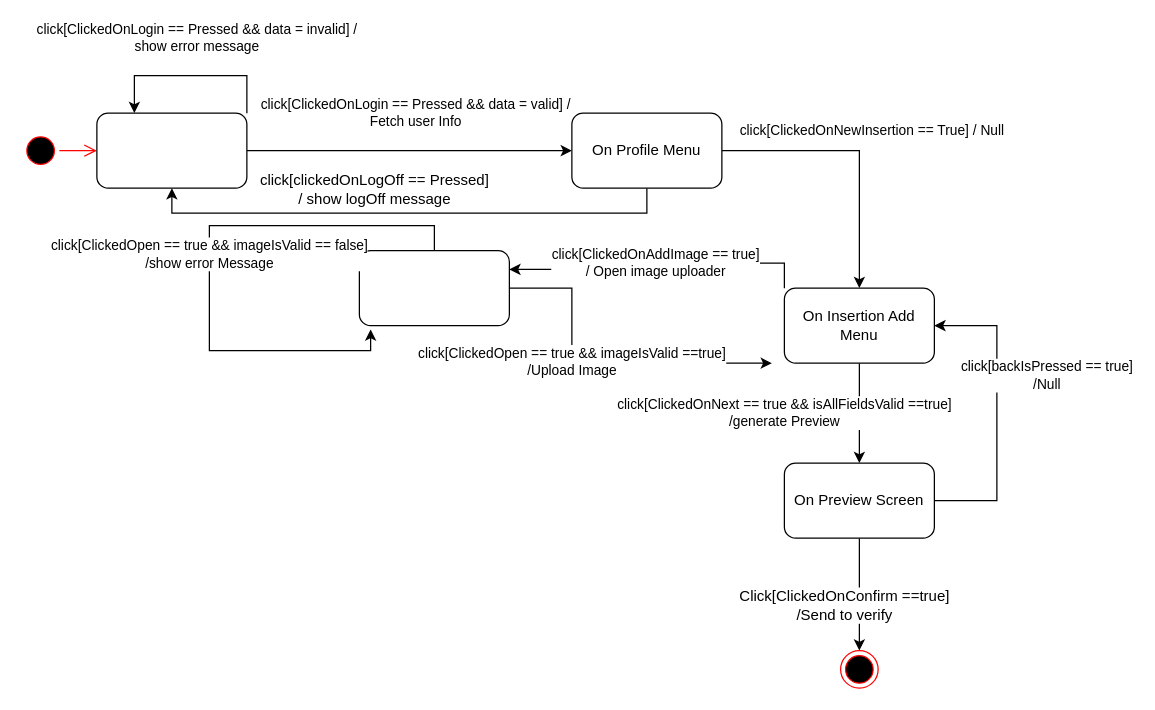
The diagram is 1155 pixels wide and 710 high, and some of its shapes have lost their labels. The shapes that lost their labels are listed below. From the top down, each one's box as (x1, y1, x2, y2) in pixels, then its label:
(96, 112, 247, 188): On Login Screen
(358, 249, 509, 326): On Picture Select Window
